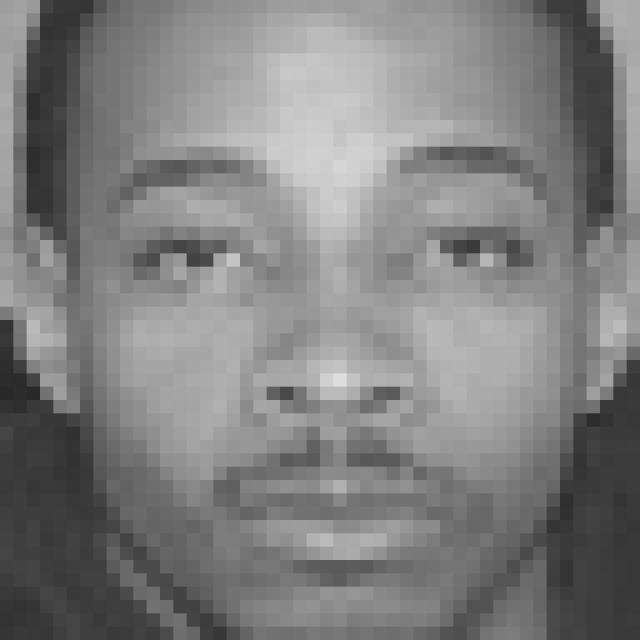neutral: (117, 141, 558, 578)
